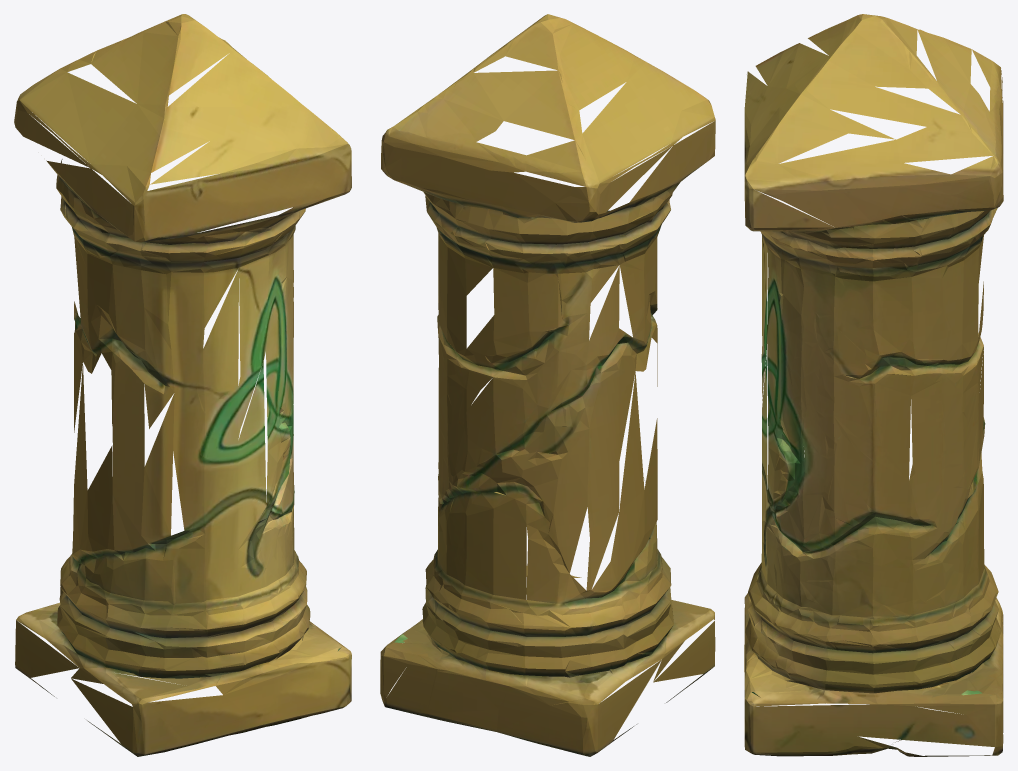
Rendered from steel_pillar.glb.
3 renders of one model, left to right at view 1: azimuth 30°, elevation 25°; view 2: azimuth 150°, elevation 25°; view 3: azimuth 270°, elevation 25°, orthographic. The views are drawn at different scales.
Parts seen in each view (by area): view 1: geometry_0; view 2: geometry_0; view 3: geometry_0.
Part boxes in pixels (bbox=[...]): geometry_0: bbox=[14, 14, 351, 756]; geometry_0: bbox=[380, 14, 715, 756]; geometry_0: bbox=[744, 14, 1003, 756].
Bounding box in the file's own units: 0.688 × 2 × 0.6824.
1 material, 1 textured.
